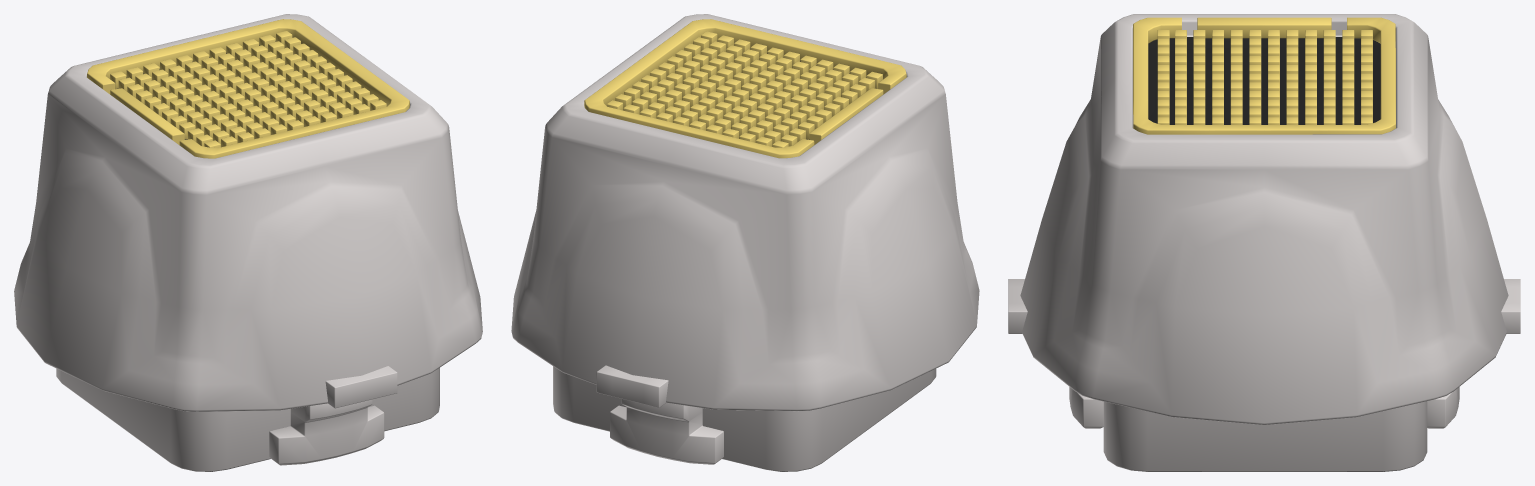
The model's file is therfect_trf_s_v2_240208.glb.
3 views of the same model, side by side, from view 1: azimuth 30°, elevation 25°; view 2: azimuth 150°, elevation 25°; view 3: azimuth 270°, elevation 25° (orthographic). The views are drawn at different scales.
Visible parts, largest first — view 1: trf_s; view 2: trf_s; view 3: trf_s.
Boxes of the visible parts, x1=… form: trf_s: x1=14, y1=14, x2=482, y2=471; trf_s: x1=511, y1=14, x2=979, y2=471; trf_s: x1=1008, y1=14, x2=1520, y2=471.
Size of the model in its own units: 0.1007 by 0.0722 by 0.1017.
